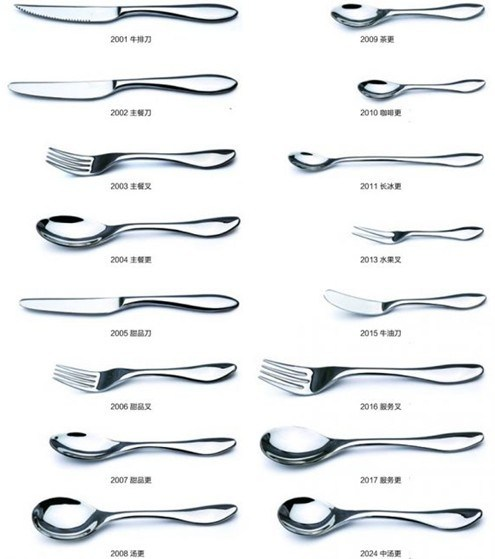knief: (7, 71, 251, 107), (11, 3, 260, 37), (13, 285, 246, 320)
